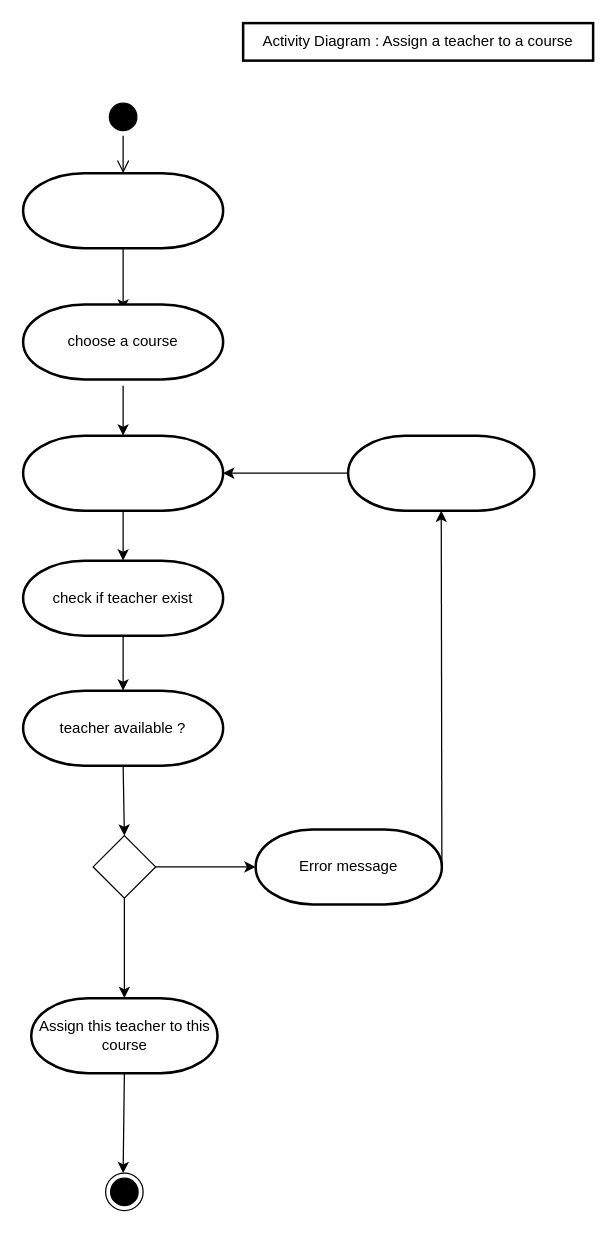
This 615x1233 diagram has some shape labels left out. The shapes that lost their labels are listed below. From the top down, each one's centre as x and y in pixels, then its label:
the point at 122,210: Choose a course in the list of course
the point at 122,472: select a teacher
the point at 440,472: find an other teacher
